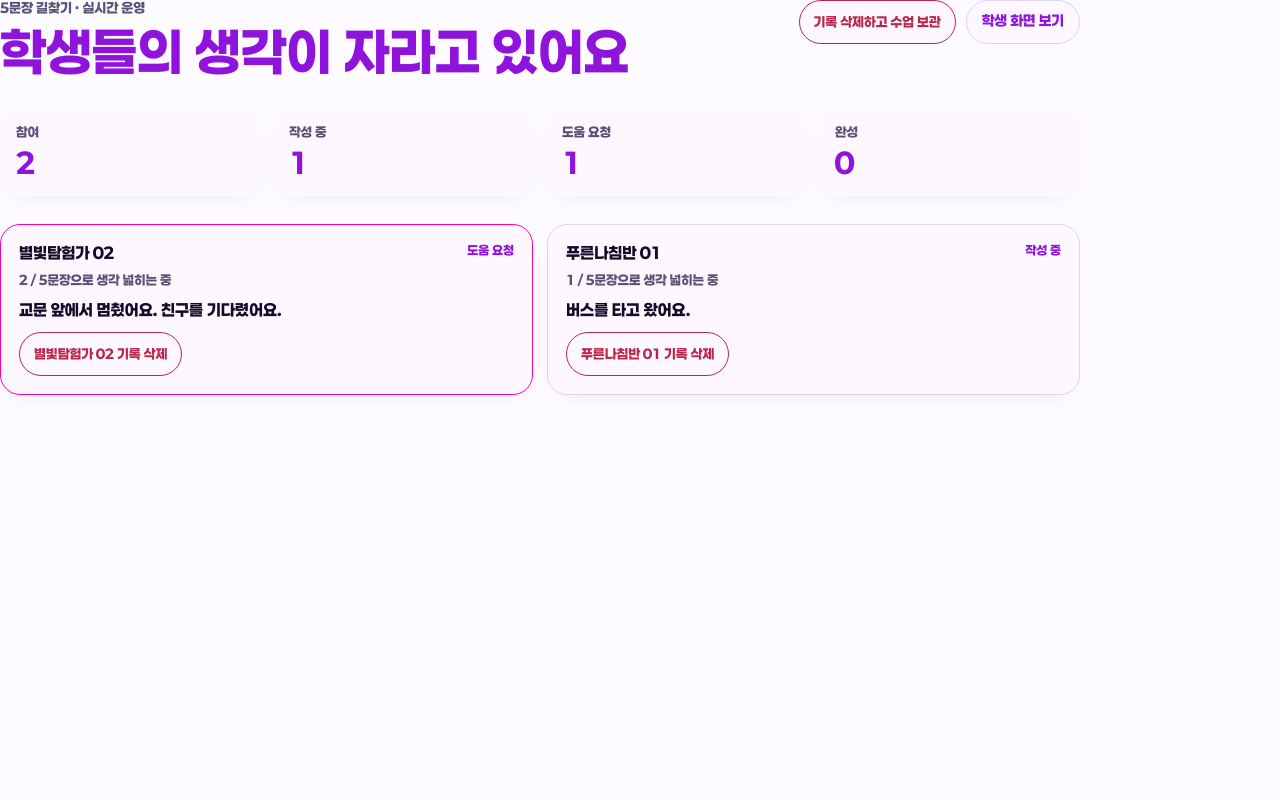
it: TeacherDashboard › 삭제에 성공해 학생 카드가 사라져도 활성화된 수업 기록 삭제 버튼으로 초점을 옮긴다
What coordinates should you click on to do the following:
click the button "별빛탐험가 02 기록 삭제"
I would click on:
 (101, 354)
Its box is left=19, top=332, right=182, bottom=376.
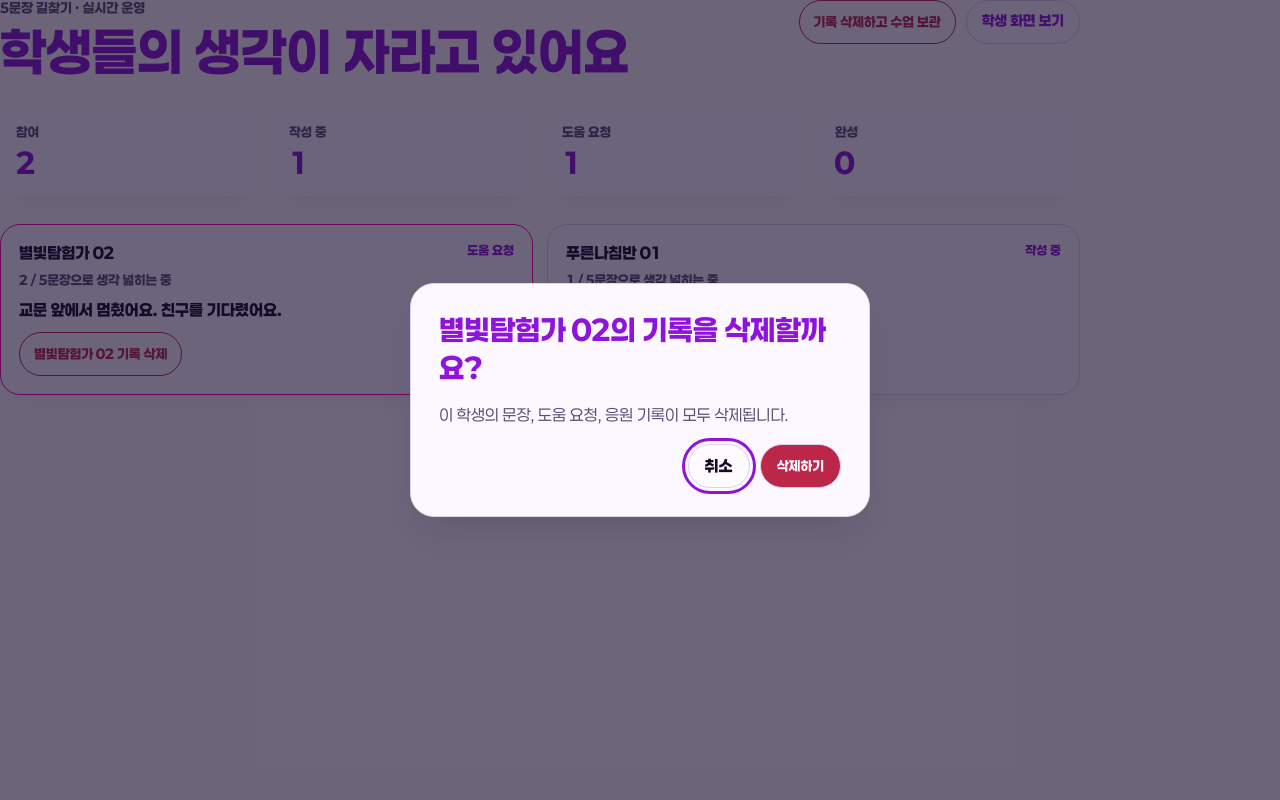
What coordinates should you click on to do the following:
click the button "삭제하기"
I would click on:
 (800, 466)
Its box is left=760, top=444, right=841, bottom=488.
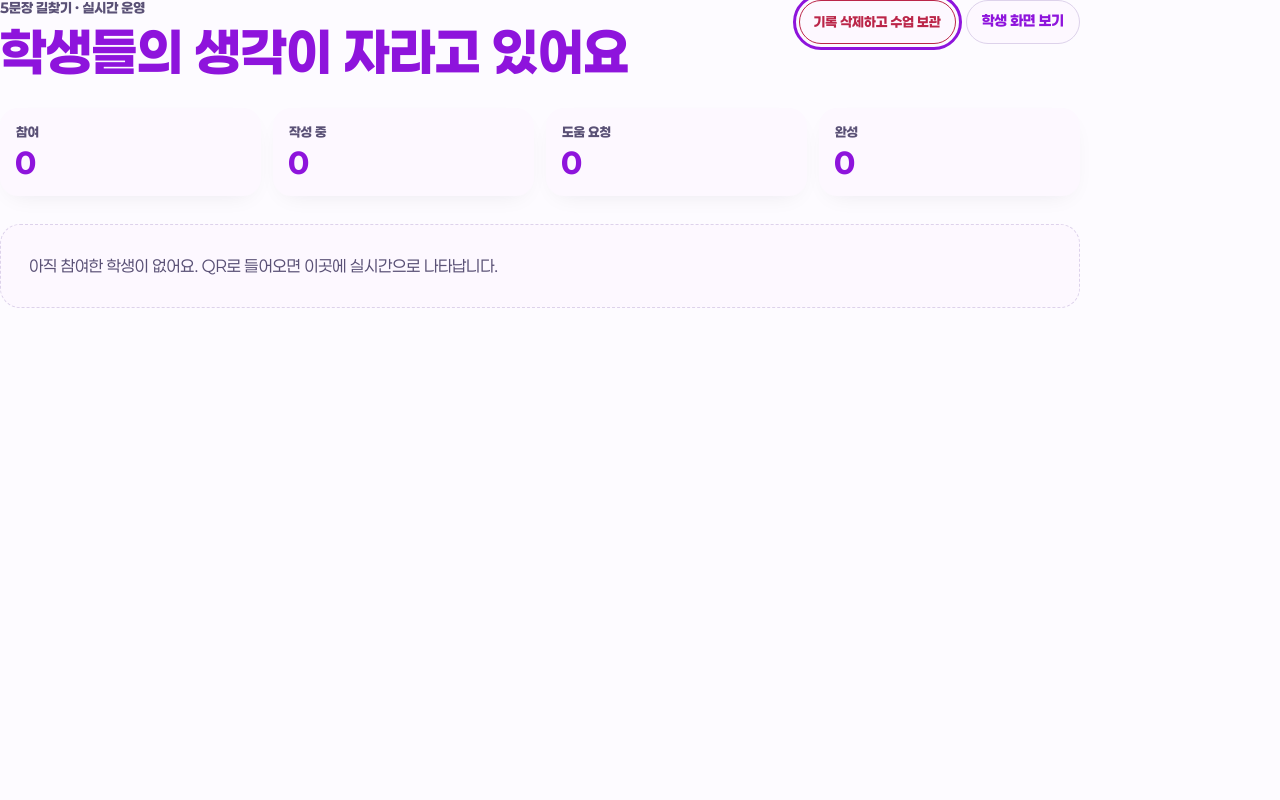
Expected: the button "기록 삭제하고 수업 보관" is enabled, left=798, top=0, right=956, bottom=44
Expected: the dialog is gone
